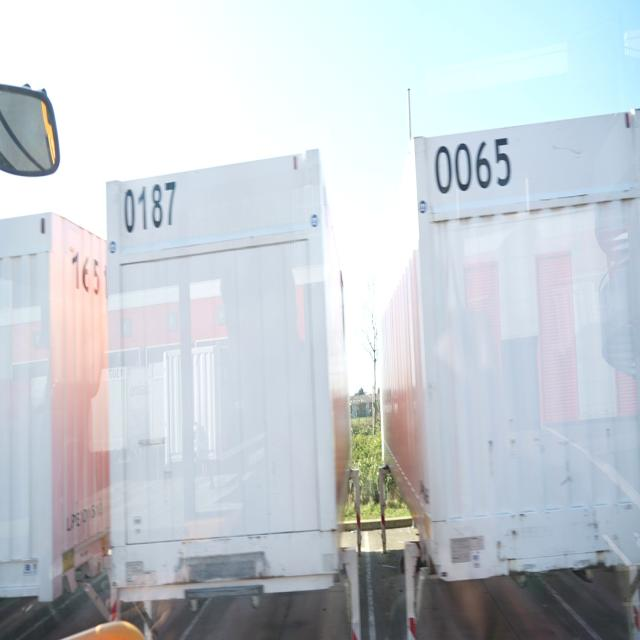Code: (428, 127, 515, 204), (121, 175, 178, 237)
